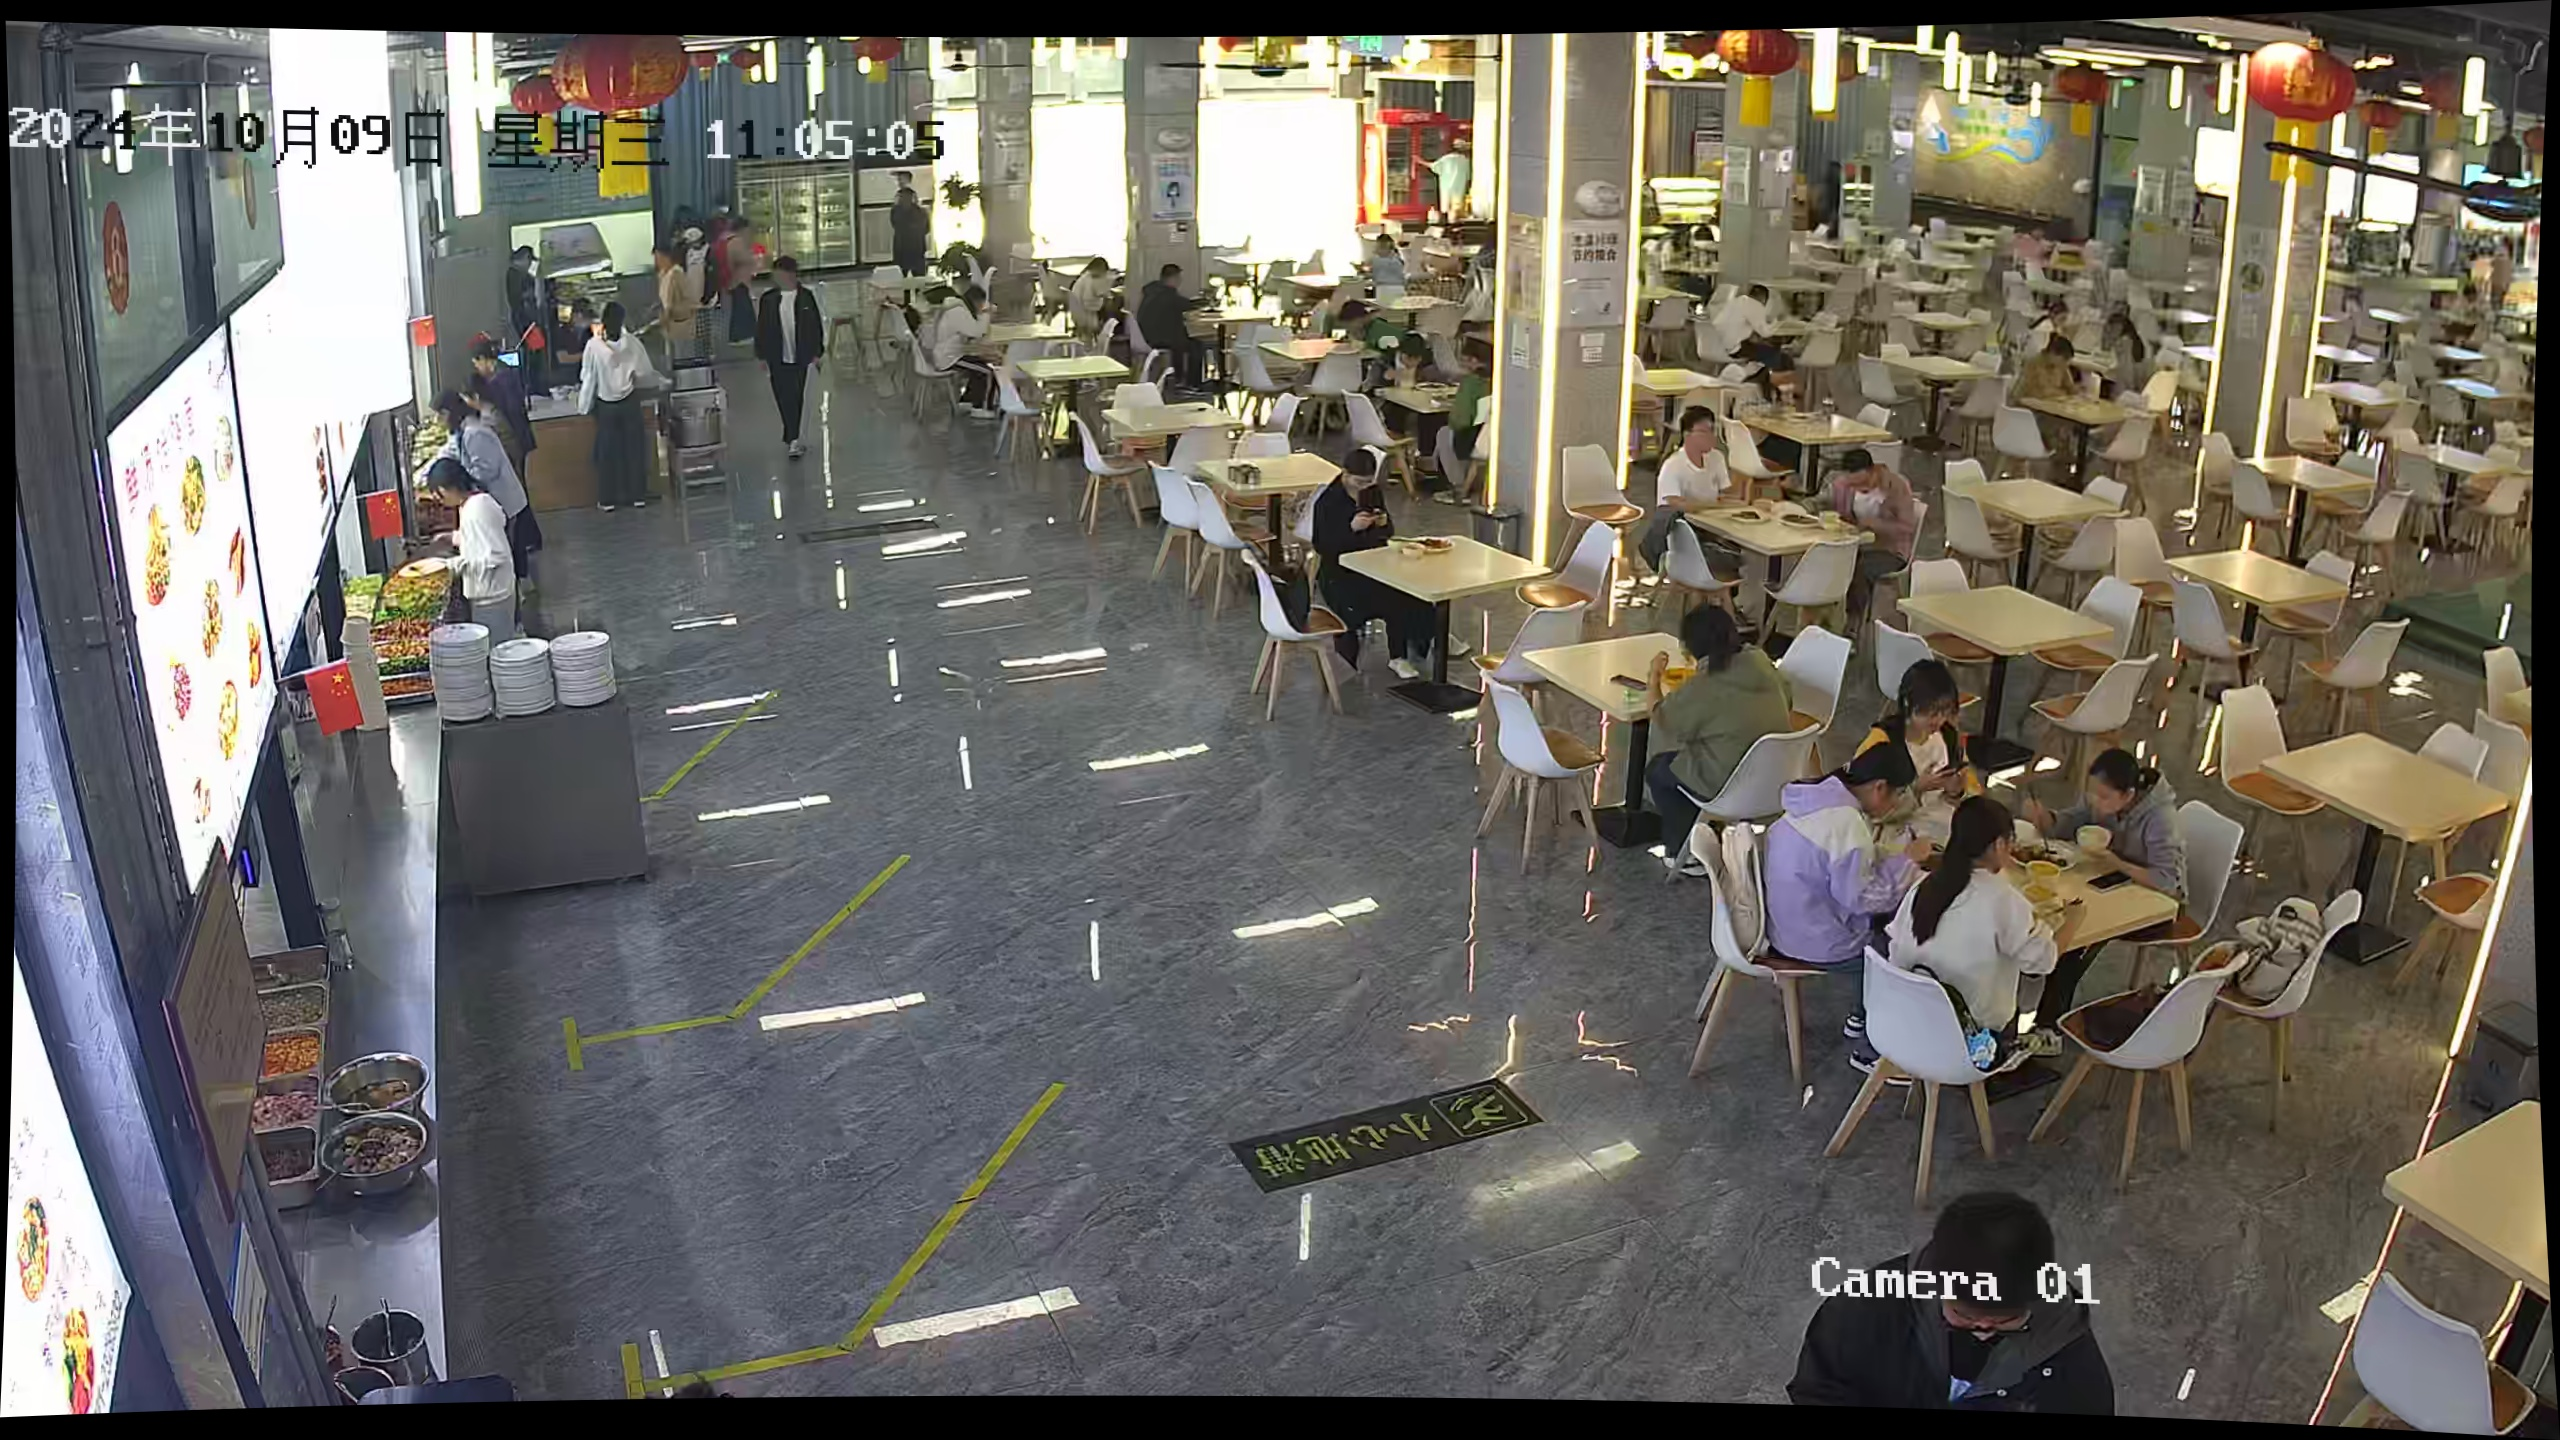a_set: (1825, 796, 2221, 1036), (2236, 714, 2534, 891), (1509, 594, 1786, 767), (1294, 506, 1581, 636), (2140, 529, 2368, 686), (1885, 563, 2131, 703), (1663, 476, 1908, 600), (1169, 429, 1384, 564), (1932, 455, 2142, 564), (1723, 382, 1920, 482), (2212, 429, 2411, 527), (1085, 378, 1276, 475), (1345, 355, 1503, 452)
